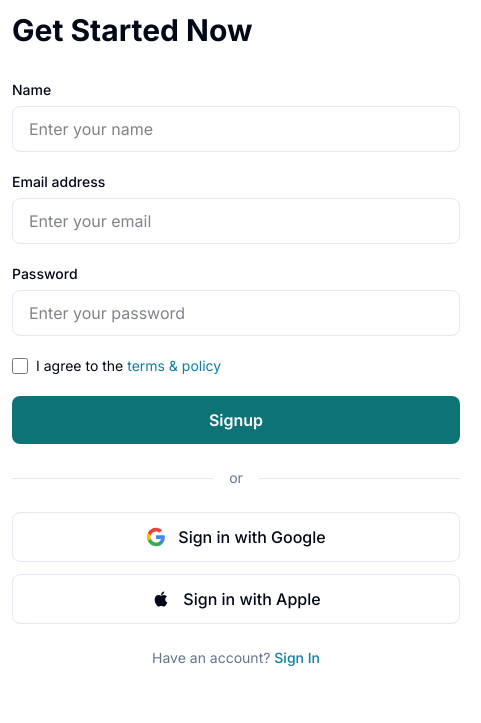
Test case: SignUpForm › handles Apple sign-in failure
Step 1. Click the button "Sign in with Apple" → (236, 599), box x1=12 y1=574 x2=460 y2=624
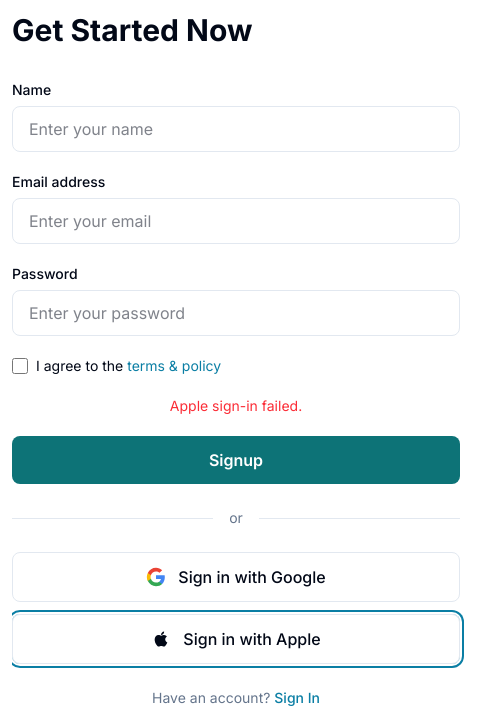
Check: the text "Apple sign-in failed." is shown, box x1=170 y1=397 x2=302 y2=414
